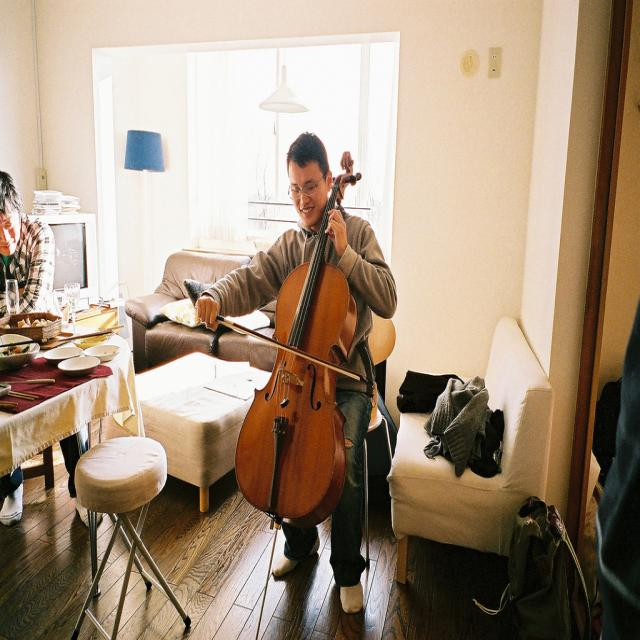cello: (232, 150, 362, 535)
